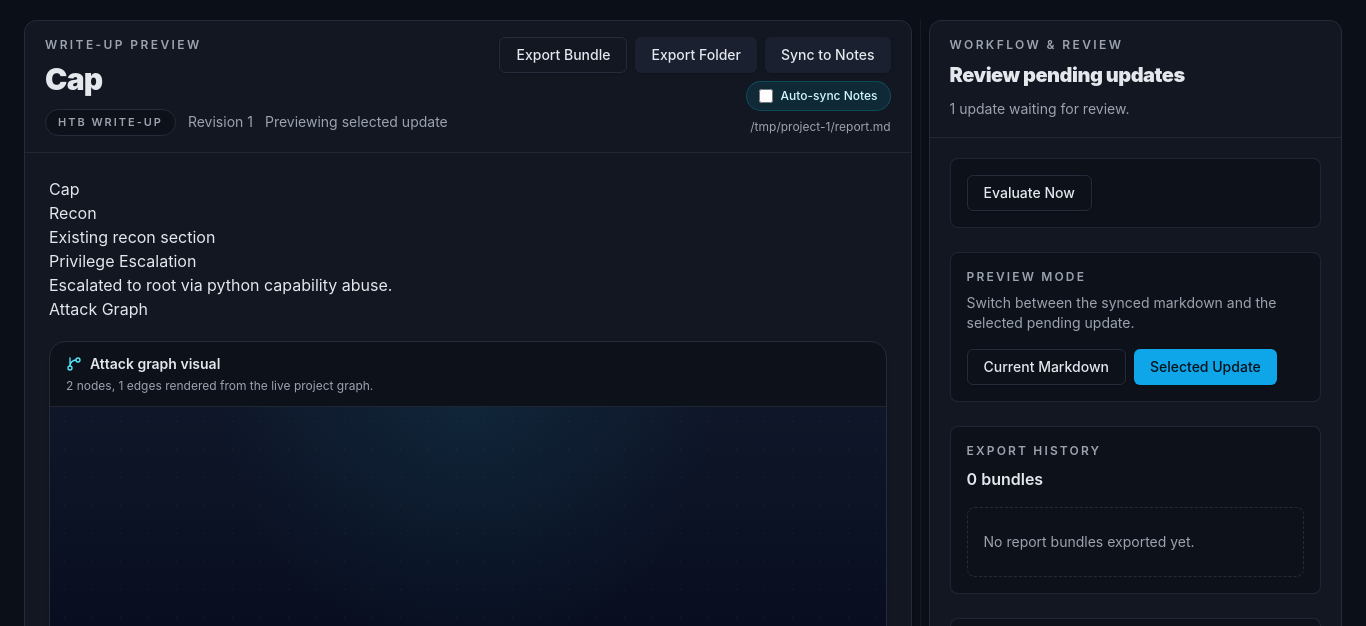
Test case: ReportsPage › shows backend details when notes sync fails
Click the button "Sync to Notes".
click(828, 55)  # box [765,37,891,73]
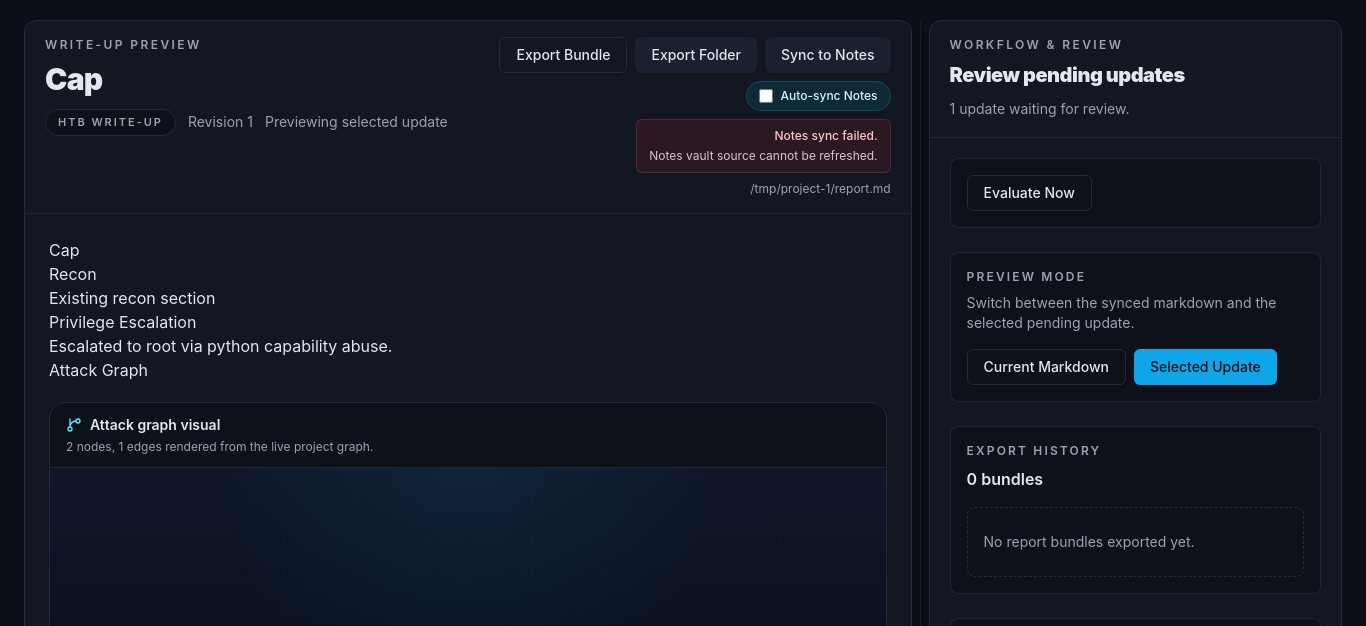
Expected: the text "Notes sync failed." is shown, [774,128,878,143]
Expected: the text "Notes vault source cannot be refreshed." is shown, [649,148,878,164]
